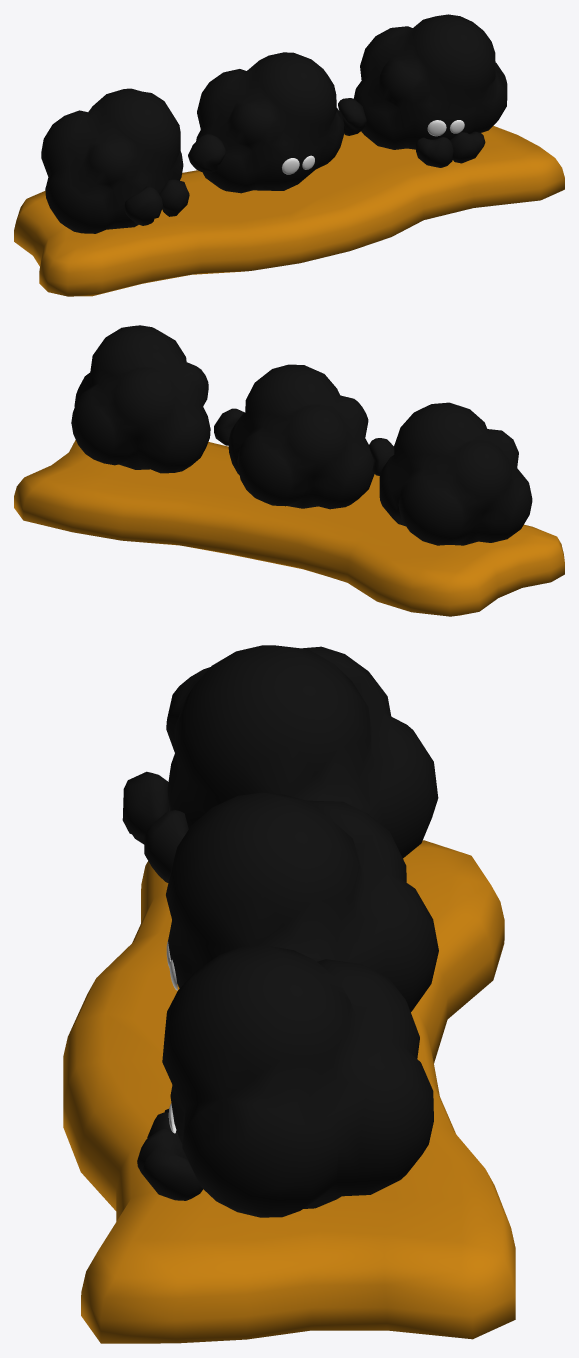
File: 3_blob_podium.FBX
3 views of the same model, one above another, from view 1: azimuth 30°, elevation 25°; view 2: azimuth 150°, elevation 25°; view 3: azimuth 270°, elevation 25° (orthographic). The views are drawn at different scales.
Parts seen in each view (by area): view 1: 3_blob_podium; view 2: 3_blob_podium; view 3: 3_blob_podium.
Part boxes in pixels (<box>): 3_blob_podium: <box>14,14,564,296</box>; 3_blob_podium: <box>14,325,564,616</box>; 3_blob_podium: <box>63,645,515,1343</box>.
Bounding box in the file's own units: 1912 × 611 × 771.
